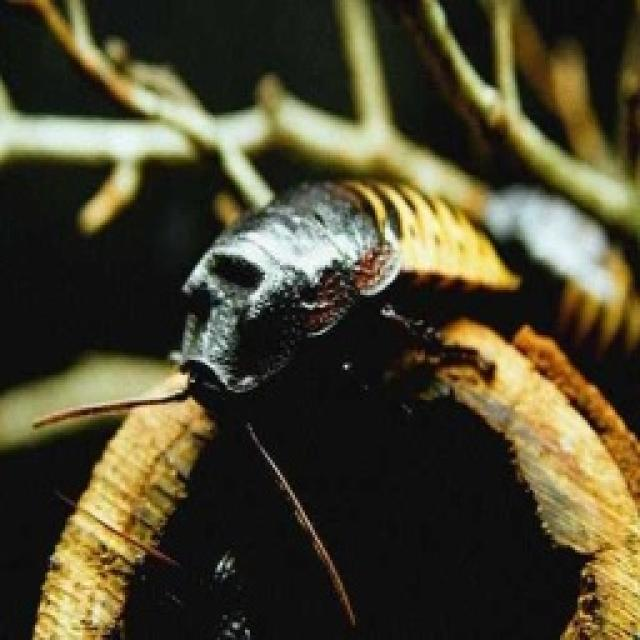cockroach: (145, 160, 527, 448)
